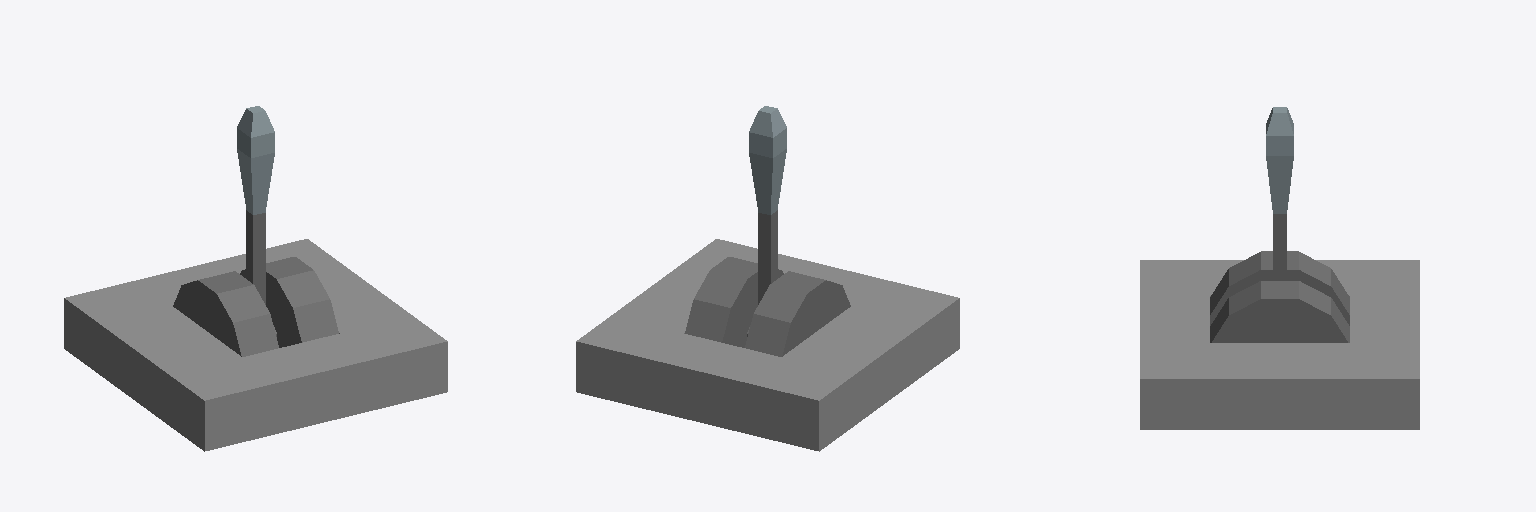
File: prop_floor_lever.obj
The picture shows the model from 3 angles: view 1: azimuth 30°, elevation 25°; view 2: azimuth 150°, elevation 25°; view 3: azimuth 270°, elevation 25°; orthographic projection.
Visible parts, largest first — view 1: prop_floor_lever_2, prop_floor_lever_3; view 2: prop_floor_lever_2, prop_floor_lever_3; view 3: prop_floor_lever_2, prop_floor_lever_3.
Boxes of the visible parts, x1=… form: prop_floor_lever_2: x1=64, y1=239, x2=447, y2=451; prop_floor_lever_3: x1=173, y1=106, x2=338, y2=356; prop_floor_lever_2: x1=576, y1=239, x2=959, y2=451; prop_floor_lever_3: x1=685, y1=106, x2=850, y2=356; prop_floor_lever_2: x1=1140, y1=260, x2=1419, y2=429; prop_floor_lever_3: x1=1210, y1=107, x2=1349, y2=342.
Bounding box in the file's own units: 1 × 1.15 × 1.